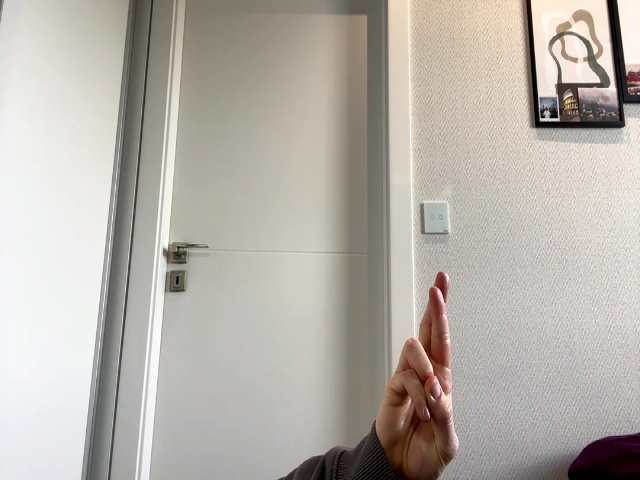R: (387, 272, 459, 467)
